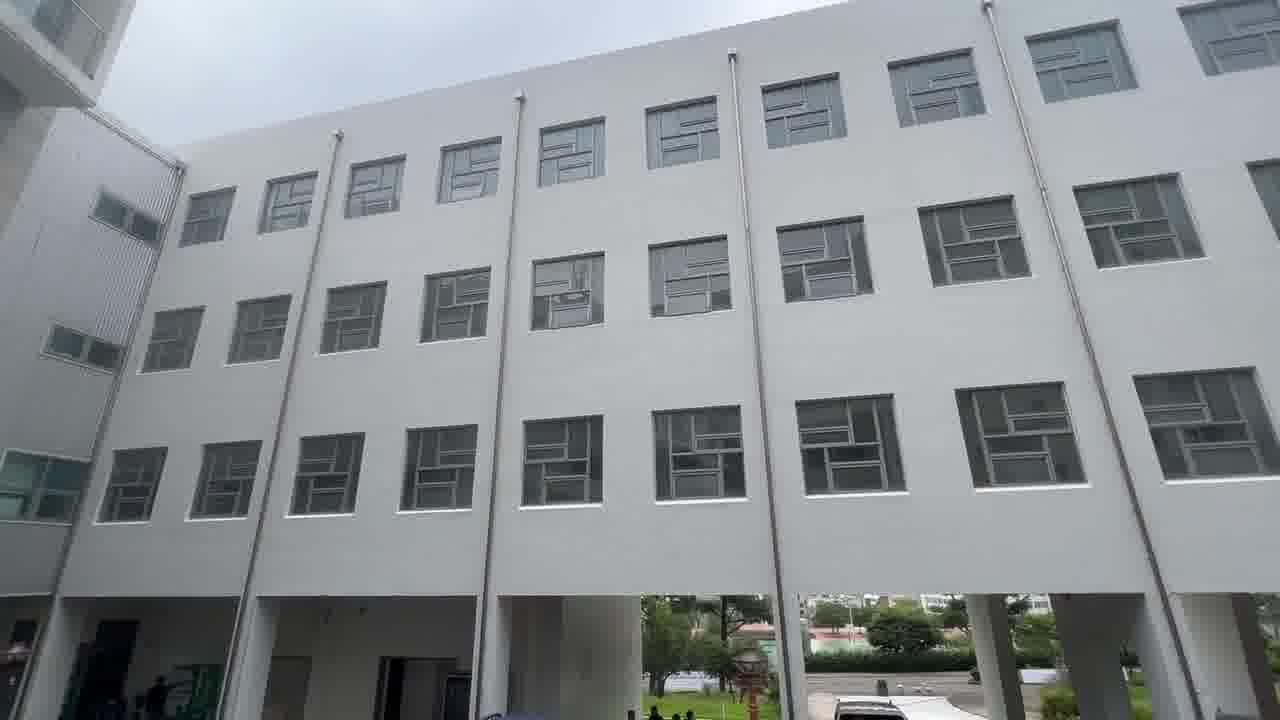building: (70, 73, 1222, 552)
